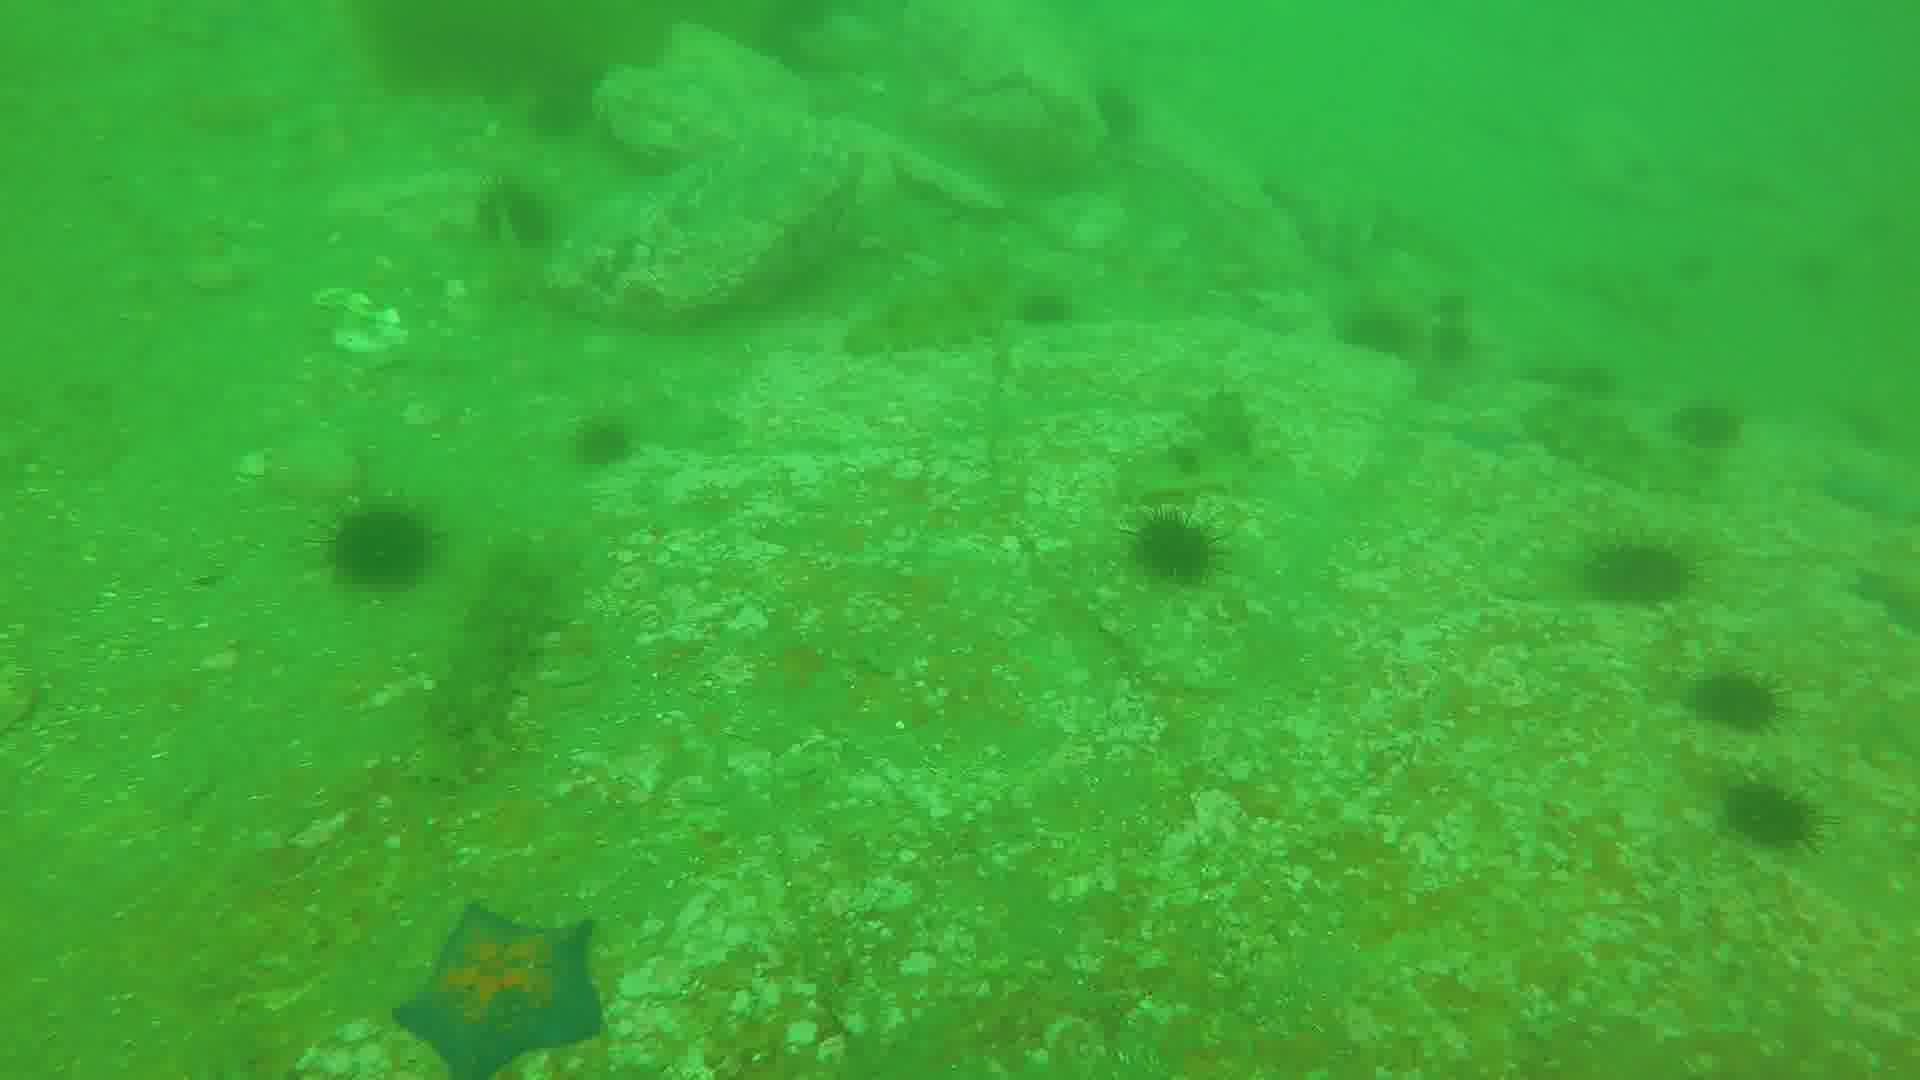echinus: (327, 508, 448, 589), (1131, 508, 1222, 589), (1596, 539, 1698, 603), (1345, 303, 1427, 377), (1727, 789, 1822, 847), (1691, 670, 1782, 728), (476, 178, 553, 247), (1672, 400, 1749, 450), (579, 415, 637, 469)
holothurian: (415, 560, 571, 793), (1526, 393, 1730, 512), (847, 266, 1069, 357)
starfish: (388, 909, 607, 1080)
